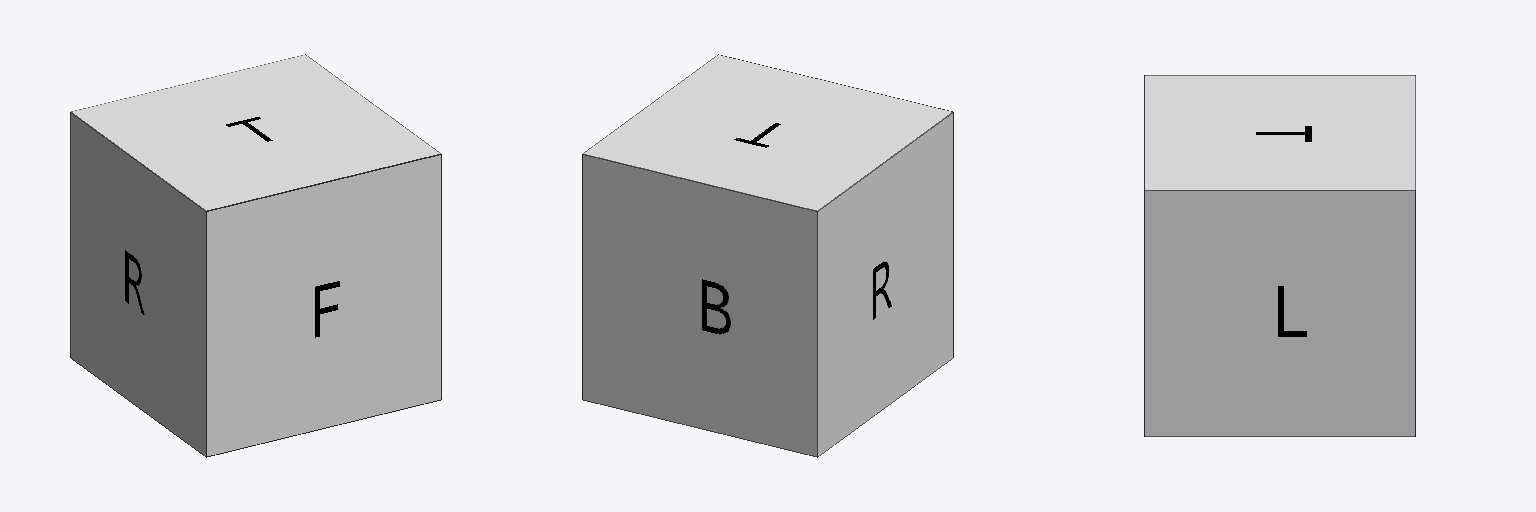
3 views of the same model, side by side, from view 1: azimuth 30°, elevation 25°; view 2: azimuth 150°, elevation 25°; view 3: azimuth 270°, elevation 25° (orthographic).
Visible parts, largest first — view 1: Cube; view 2: Cube; view 3: Cube.
Boxes of the visible parts, <box> form: Cube: <box>70,54,441,457</box>; Cube: <box>582,54,953,457</box>; Cube: <box>1144,75,1415,436</box>.
Bounding box in the file's own units: 1 × 1 × 1.
1 materials, 1 textured.